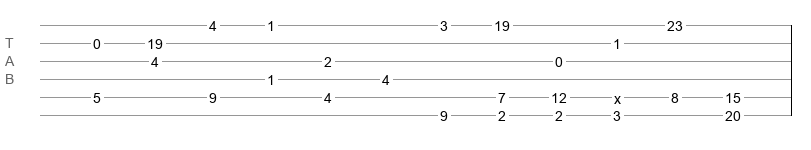0: (93, 36, 101, 46), (555, 54, 563, 64)
1: (267, 72, 275, 82), (267, 18, 275, 28), (613, 36, 621, 46)
12: (551, 90, 567, 100)
15: (725, 90, 741, 100)
19: (147, 36, 163, 46), (494, 18, 510, 28)
2: (324, 54, 332, 64), (498, 108, 506, 118), (555, 108, 563, 118)
20: (725, 108, 741, 118)
23: (667, 18, 683, 28)
3: (440, 18, 448, 28), (613, 108, 621, 118)
4: (151, 54, 159, 64), (209, 18, 217, 28), (324, 90, 332, 100), (382, 72, 390, 82)
5: (93, 90, 101, 100)
7: (498, 90, 506, 100)
8: (671, 90, 679, 100)
9: (209, 90, 217, 100), (440, 108, 448, 118)
x: (614, 91, 621, 99)
